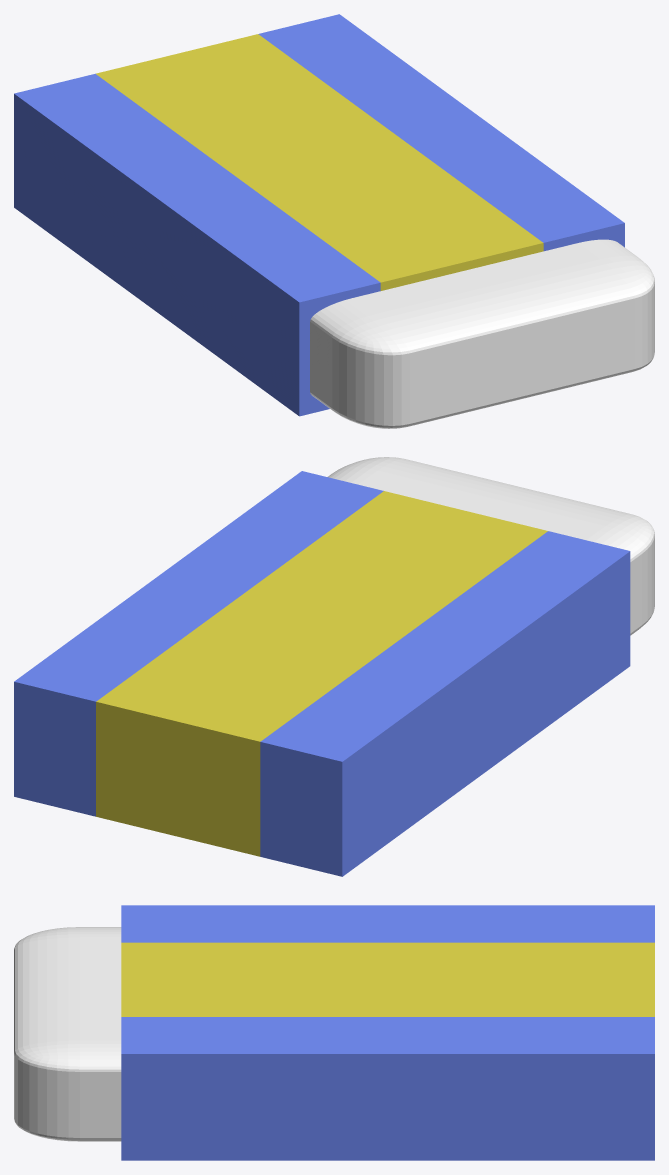
File: eraser.fbx
3 views of the same model, one above another, from view 1: azimuth 30°, elevation 25°; view 2: azimuth 150°, elevation 25°; view 3: azimuth 270°, elevation 25° (orthographic). The views are drawn at different scales.
Parts seen in each view (by area): view 1: Cube, Cube.016; view 2: Cube, Cube.016; view 3: Cube, Cube.016.
Part boxes in pixels (x1,y1,x2,y2): Cube: [14, 14, 624, 416]; Cube.016: [310, 239, 654, 428]; Cube: [14, 471, 630, 876]; Cube.016: [328, 457, 654, 635]; Cube: [121, 905, 654, 1160]; Cube.016: [14, 927, 121, 1141].
Size of the model in its own units: 90.86 by 30.41 by 166.
